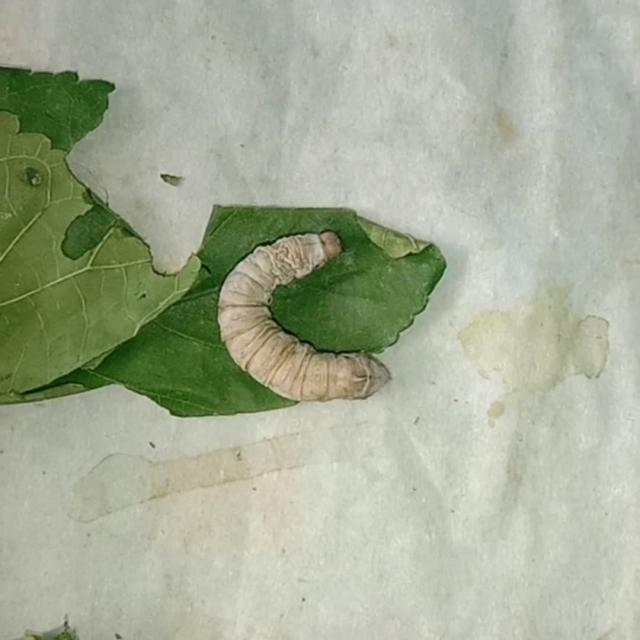Grasserie: (213, 218, 414, 410)
